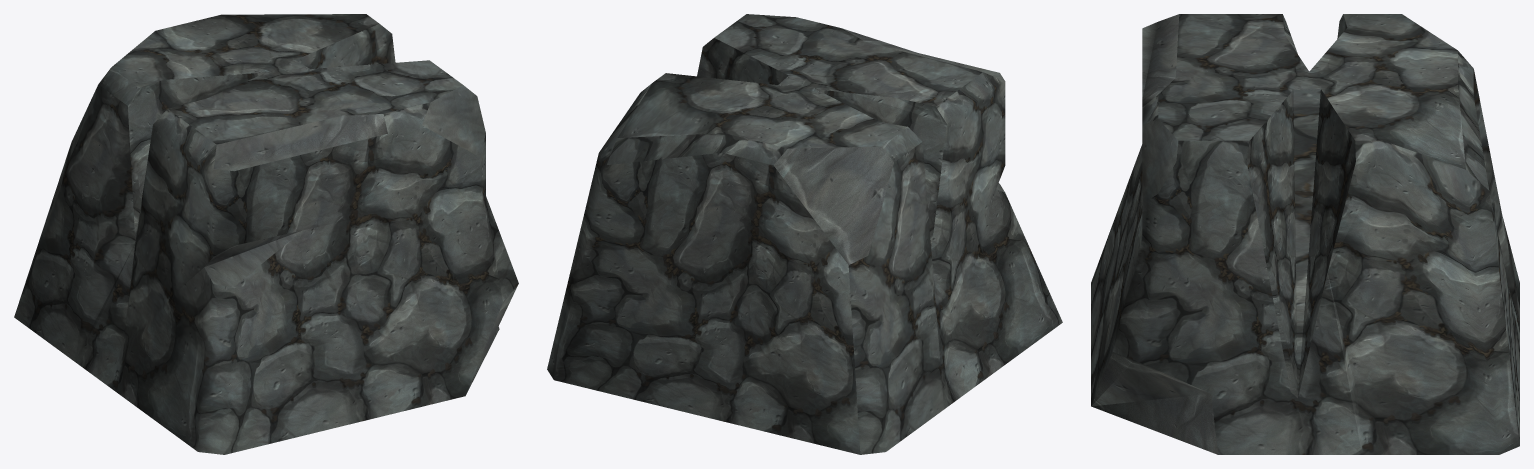
File: platform2_rock_platform.fbx
3 renders of one model, left to right at view 1: azimuth 30°, elevation 25°; view 2: azimuth 150°, elevation 25°; view 3: azimuth 270°, elevation 25°, orthographic. The views are drawn at different scales.
Parts seen in each view (by area): view 1: Default_Layer; view 2: Default_Layer; view 3: Default_Layer.
Part boxes in pixels (box(x1,y1,x2,y2)): Default_Layer: box(14, 14, 518, 454); Default_Layer: box(547, 14, 1062, 454); Default_Layer: box(1091, 14, 1519, 454).
Size of the model in its own units: 156 by 115 by 156.
